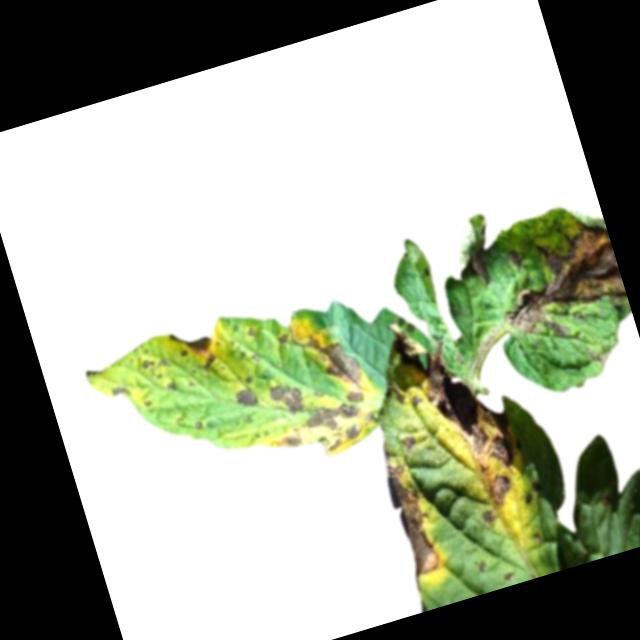Early_blight: (388, 302, 518, 488), (483, 214, 632, 353), (269, 385, 388, 470), (380, 457, 445, 577), (307, 323, 371, 399), (167, 322, 222, 378), (267, 375, 308, 419), (482, 469, 521, 510), (465, 238, 494, 289), (140, 352, 172, 384), (232, 383, 260, 409), (383, 376, 406, 407), (585, 341, 609, 366), (108, 379, 132, 400), (397, 431, 419, 452), (273, 326, 293, 348), (479, 507, 498, 527), (505, 247, 524, 266), (161, 379, 176, 394), (521, 489, 536, 503)
